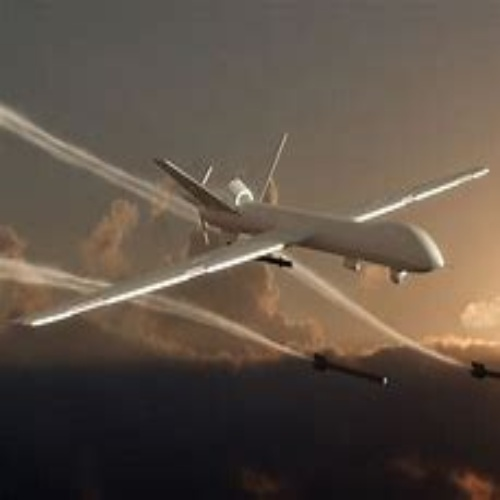uav: (14, 133, 491, 331)
